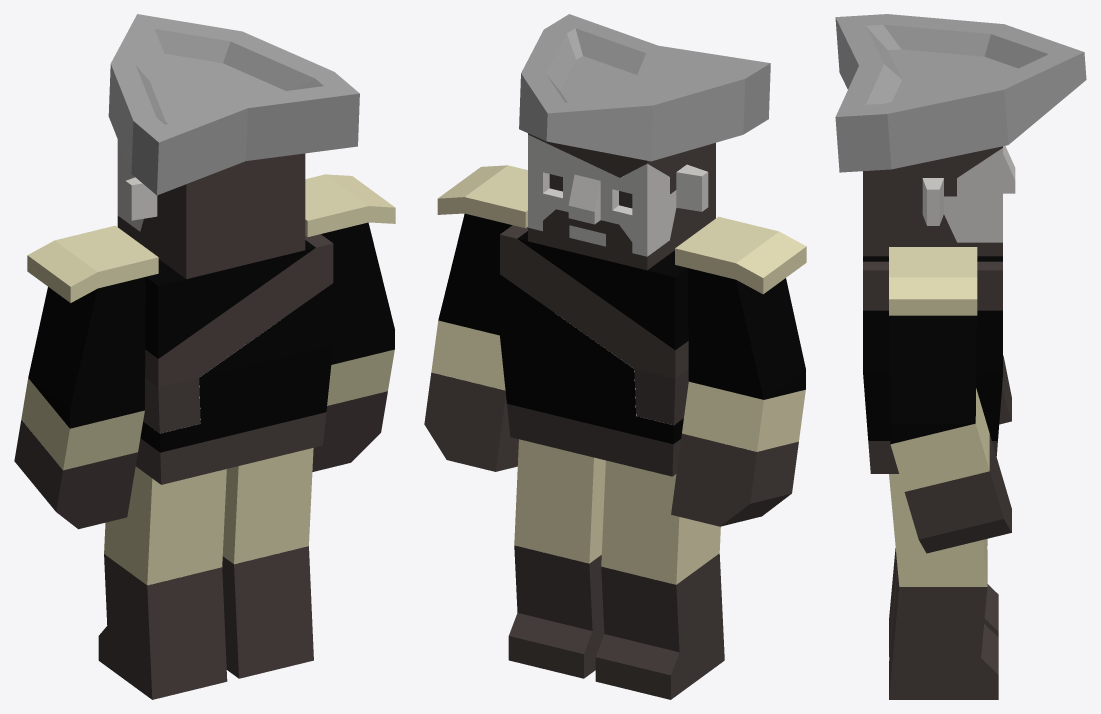
File: PirateCaptain.gltf
3 renders of one model, left to right at view 1: azimuth 30°, elevation 25°; view 2: azimuth 150°, elevation 25°; view 3: azimuth 270°, elevation 25°, orthographic.
Visible parts, largest first — view 1: body, armLeft, Group_122001, legLeft, legRight, armRight, Group_122; view 2: body, armLeft, Group_122001, legLeft, armRight, legRight, Group_122; view 3: Group_122001, armRight, legRight, Group_122, body, legLeft, armLeft.
Part boxes in pixels (bbox=[...]): body: bbox=[136, 234, 333, 484]; armLeft: bbox=[14, 225, 158, 529]; Group_122001: bbox=[108, 14, 359, 195]; legLeft: bbox=[98, 466, 227, 699]; legRight: bbox=[222, 448, 313, 678]; armRight: bbox=[305, 174, 395, 471]; Group_122: bbox=[117, 140, 305, 278]; body: bbox=[500, 225, 688, 476]; armLeft: bbox=[671, 216, 806, 526]; Group_122001: bbox=[519, 14, 770, 161]; legLeft: bbox=[595, 460, 724, 699]; armRight: bbox=[424, 165, 527, 471]; legRight: bbox=[508, 439, 605, 678]; Group_122: bbox=[528, 133, 715, 270]; Group_122001: bbox=[835, 14, 1086, 172]; armRight: bbox=[889, 247, 1011, 553]; legRight: bbox=[889, 474, 998, 699]; Group_122: bbox=[863, 146, 1015, 256]; body: bbox=[863, 196, 1002, 473]; legLeft: bbox=[889, 539, 998, 656]; armLeft: bbox=[999, 355, 1011, 424].
Bounding box in the file's own units: 0.6239 × 1.09 × 0.4096.
